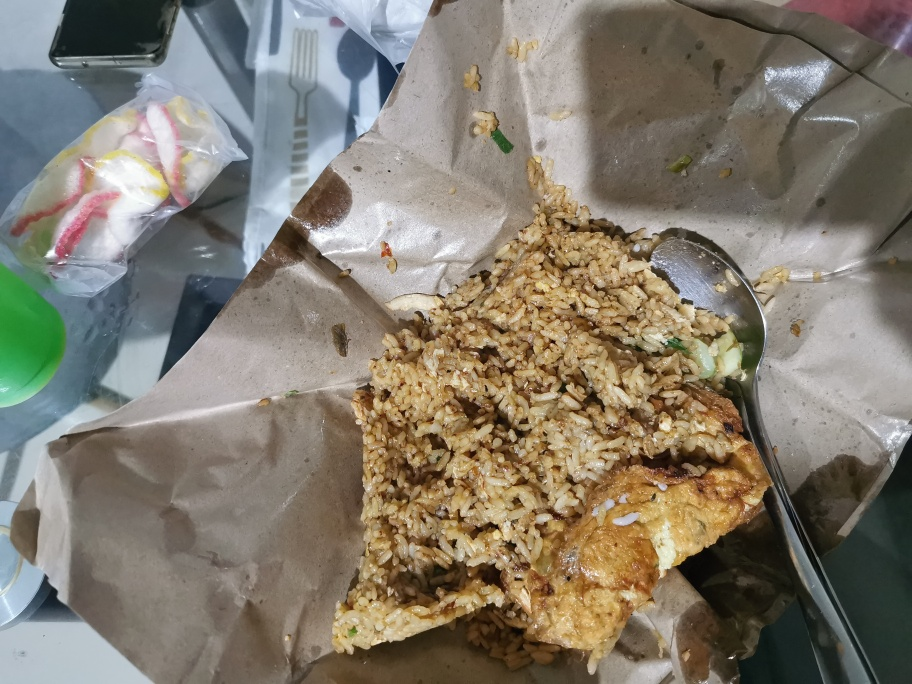nasi goreng: (358, 214, 760, 668)
